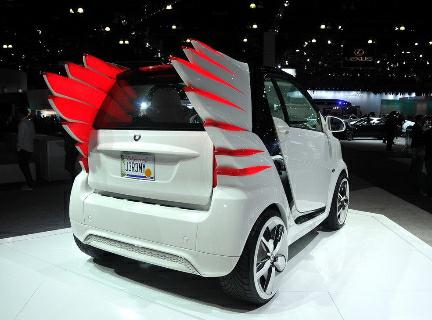smart-forjeremy: (67, 46, 320, 287)
